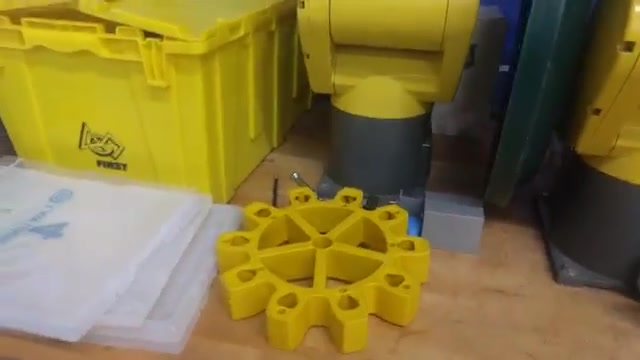gear: (211, 175, 435, 350)
